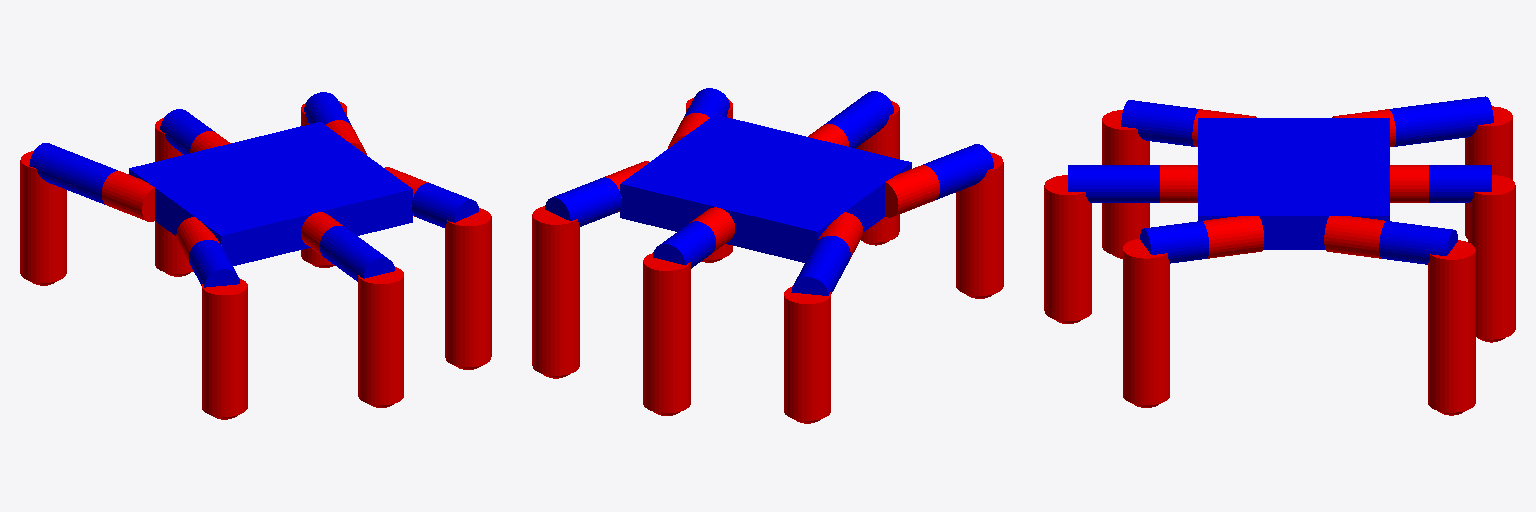
--- Render facts (derived) ---
3 views of the same robot in one strip: view 1: azimuth 30°, elevation 25°; view 2: azimuth 150°, elevation 25°; view 3: azimuth 270°, elevation 25° (orthographic).
Model pexod with 19 links and 18 joints (18 revolute), rooted at base_link, posed every joint at zero.
Visible links, largest first — view 1: base_link, leg_3_3, leg_5_3, leg_4_3, leg_0_3, leg_0_2, leg_4_2, leg_3_2, leg_0_1, leg_1_3, leg_5_2, leg_1_2 (+4 smaller); view 2: base_link, leg_2_3, leg_1_3, leg_0_3, leg_5_3, leg_2_2, leg_0_2, leg_5_2, leg_4_2, leg_5_1, leg_4_3, leg_1_2 (+5 smaller); view 3: base_link, leg_2_3, leg_3_3, leg_1_3, leg_4_3, leg_5_3, leg_0_2, leg_4_2, leg_2_2, leg_5_2, leg_0_3, leg_3_2 (+5 smaller).
Boxes of the visible links, box(x1,y1,x2,y2) form: base_link: box(129, 122, 412, 265); leg_3_3: box(445, 208, 491, 369); leg_5_3: box(202, 278, 247, 419); leg_4_3: box(358, 267, 403, 407); leg_0_3: box(20, 151, 66, 285); leg_0_2: box(29, 143, 117, 204); leg_4_2: box(319, 226, 394, 281); leg_3_2: box(412, 183, 478, 227); leg_0_1: box(102, 171, 154, 221); leg_1_3: box(155, 118, 193, 276); leg_5_2: box(189, 240, 239, 287); leg_1_2: box(160, 109, 214, 154); base_link: box(620, 114, 911, 262); leg_2_3: box(532, 206, 579, 378); leg_1_3: box(643, 253, 690, 415); leg_0_3: box(784, 286, 830, 423); leg_5_3: box(956, 152, 1003, 298); leg_2_2: box(545, 177, 621, 226); leg_0_2: box(791, 236, 850, 295); leg_5_2: box(923, 144, 993, 199); leg_4_2: box(824, 91, 893, 148); leg_5_1: box(885, 165, 939, 217); leg_4_3: box(856, 100, 899, 245); leg_1_2: box(653, 221, 715, 268); base_link: box(1198, 118, 1389, 249); leg_2_3: box(1428, 240, 1475, 415); leg_3_3: box(1123, 239, 1169, 407); leg_1_3: box(1468, 175, 1515, 342); leg_4_3: box(1044, 175, 1091, 323); leg_5_3: box(1102, 110, 1149, 258); leg_0_2: box(1389, 96, 1493, 146); leg_4_2: box(1068, 165, 1159, 202); leg_2_2: box(1379, 221, 1457, 264); leg_5_2: box(1121, 100, 1198, 146); leg_0_3: box(1465, 106, 1512, 238); leg_3_2: box(1140, 221, 1208, 263).
Bounding box of the posed robot: 0.3784 × 0.4905 × 0.2081 m (x, y, z).
Geometry: primitives only (box / cylinder / sphere), no mesh files.

The robot description file, URDF, robot "pexod":
<?xml version="1.0" ?>
<!-- =================================================================================== -->
<!-- |    This document was autogenerated by xacro from pexod.xacro                    | -->
<!-- |    EDITING THIS FILE BY HAND IS NOT RECOMMENDED                                 | -->
<!-- =================================================================================== -->
<robot name="pexod" xmlns:xacro="http://www.ros.org/wiki/xacro">
  <!-- <xacro:include filename="$(find pexod_description)/urdf/pexod_control.xacro" /> -->
  <!-- MATERIALS -->
  <material name="Blue">
    <color rgba="0 0 1 1"/>
  </material>
  <material name="Red">
    <color rgba="1 0 0 1"/>
  </material>
  <material name="Green">
    <color rgba="0 1 0 1"/>
  </material>
  <material name="Yellow">
    <color rgba="1 1 0 1"/>
  </material>
  <material name="LightGrey">
    <color rgba="0.6 0.6 0.6 1.0"/>
  </material>
  <!-- END OF MATERIALS -->
  <!-- XACRO MACROS FOR VISUALS AND COLLISIONS -->
  <!-- END OF XACRO MACROS -->
  <!-- TORSO -->
  <link name="base_link">
    <visual>
      <origin rpy="0 0 0" xyz="0 0 0"/>
      <geometry>
        <box size="0.24 0.2 0.04"/>
      </geometry>
      <material name="Blue"/>
    </visual>
    <collision>
      <origin rpy="0 0 0" xyz="0 0 0"/>
      <geometry>
        <box size="0.24 0.2 0.04"/>
      </geometry>
    </collision>
    <inertial>
      <!-- CENTER OF MASS -->
      <origin rpy="0 0 0" xyz="0 0 0"/>
      <mass value="1.031"/>
      <!-- box inertia: 1/12*m(y^2+z^2), ... -->
      <inertia ixx="0.00357413333333" ixy="0" ixz="0" iyy="0.00508626666667" iyz="0" izz="0.00838546666667"/>
    </inertial>
  </link>
  <!-- XACRO MACRO FOR LEGS LINKS/JOINTS -->
  <!-- END OF LEG LINKS/JOINTS -->
  <joint name="body_leg_2" type="revolute">
    <parent link="base_link"/>
    <child link="leg_2_1"/>
    <limit effort="30.0" lower="-1.57079632679" upper="1.57079632679" velocity="7.0"/>
    <origin rpy="0 0 -0.3" xyz="0.11 0.04 0"/>
    <!-- <xacro:if value="${index == 5 or index == 4 or index == 3}">
                <axis xyz="0 0 1"/>
            </xacro:if>
            <xacro:if value="${index == 2 or index == 1 or index == 0}"> -->
    <axis xyz="0 0 1"/>
    <!-- </xacro:if> -->
    <dynamics damping="0.0"/>
  </joint>
  <link name="leg_2_1">
    <visual>
      <origin rpy="1.57079632679 0 0" xyz="0.01 0.03 0"/>
      <geometry>
        <cylinder length="0.06" radius="0.02"/>
      </geometry>
      <material name="Red"/>
    </visual>
    <collision>
      <origin rpy="1.57079632679 0 0" xyz="0.01 0.03 0"/>
      <geometry>
        <box size="0.02 0.02 0.06"/>
      </geometry>
    </collision>
    <inertial>
      <!-- CENTER OF MASS -->
      <origin rpy="1.57079632679 0 0" xyz="0.01 0.03 0"/>
      <mass value="0.02"/>
      <!-- box inertia: 1/12*m(y^2+z^2), ... -->
      <inertia ixx="6.66666666667e-06" ixy="0" ixz="0" iyy="6.66666666667e-06" iyz="0" izz="1.33333333333e-06"/>
    </inertial>
  </link>
  <joint name="leg_2_1_2" type="revolute">
    <parent link="leg_2_1"/>
    <child link="leg_2_2"/>
    <limit effort="30.0" lower="-0.78539816339" upper="0.78539816339" velocity="7.0"/>
    <origin rpy="0 0 0" xyz="0 0.06 0"/>
    <axis xyz="1 0 0"/>
    <dynamics damping="0.0"/>
  </joint>
  <link name="leg_2_2">
    <visual>
      <origin rpy="1.57079632679 0 0" xyz="0.01 0.0367236384645 0"/>
      <geometry>
        <cylinder length="0.0734472769291" radius="0.02"/>
      </geometry>
      <material name="Blue"/>
    </visual>
    <collision>
      <origin rpy="1.57079632679 0 0" xyz="0.01 0.0367236384645 0"/>
      <geometry>
        <box size="0.02 0.02 0.0734472769291"/>
      </geometry>
    </collision>
    <inertial>
      <!-- CENTER OF MASS -->
      <origin rpy="1.57079632679 0 0" xyz="0.01 0.0367236384645 0"/>
      <mass value="0.184"/>
      <!-- box inertia: 1/12*m(y^2+z^2), ... -->
      <inertia ixx="8.88490381539e-05" ixy="0" ixz="0" iyy="8.88490381539e-05" iyz="0" izz="1.22666666667e-05"/>
    </inertial>
  </link>
  <joint name="leg_2_2_3" type="revolute">
    <parent link="leg_2_2"/>
    <child link="leg_2_3"/>
    <limit effort="30.0" lower="-0.78539816339" upper="0.78539816339" velocity="7.0"/>
    <origin rpy="-1.57079632679 0 0" xyz="0 0.0734472769291 0"/>
    <axis xyz="-1 0 0"/>
    <dynamics damping="0.0"/>
  </joint>
  <link name="leg_2_3">
    <visual>
      <origin rpy="1.57079632679 0 0" xyz="0.0125 0.087816084555 0"/>
      <geometry>
        <cylinder length="0.17563216911" radius="0.025"/>
      </geometry>
      <material name="Red"/>
    </visual>
    <visual>
      <origin rpy="1.57079632679 0 0" xyz="0.0125 0.16313216911 0"/>
      <geometry>
        <sphere radius="0.025"/>
      </geometry>
      <material name="Red"/>
    </visual>
    <collision>
      <origin rpy="1.57079632679 0 0" xyz="0.0125 0.087816084555 0"/>
      <geometry>
        <box size="0.025 0.025 0.17563216911"/>
      </geometry>
    </collision>
    <collision>
      <origin rpy="1.57079632679 0 0" xyz="0.0125 0.16313216911 0"/>
      <geometry>
        <sphere radius="0.025"/>
      </geometry>
      <material name="Red"/>
    </collision>
    <inertial>
      <!-- CENTER OF MASS -->
      <origin rpy="1.57079632679 0 0" xyz="0.0125 0.087816084555 0"/>
      <mass value="0.04"/>
      <!-- box inertia: 1/12*m(y^2+z^2), ... -->
      <inertia ixx="0.000104905529421" ixy="0" ixz="0" iyy="0.000104905529421" iyz="0" izz="4.16666666667e-06"/>
    </inertial>
  </link>
  <joint name="body_leg_3" type="revolute">
    <parent link="base_link"/>
    <child link="leg_3_1"/>
    <limit effort="30.0" lower="-1.57079632679" upper="1.57079632679" velocity="7.0"/>
    <origin rpy="0 0 0.3" xyz="0.11 -0.04 0"/>
    <!-- <xacro:if value="${index == 5 or index == 4 or index == 3}">
                <axis xyz="0 0 1"/>
            </xacro:if>
            <xacro:if value="${index == 2 or index == 1 or index == 0}"> -->
    <axis xyz="0 0 1"/>
    <!-- </xacro:if> -->
    <dynamics damping="0.0"/>
  </joint>
  <link name="leg_3_1">
    <visual>
      <origin rpy="1.57079632679 0 0" xyz="0.01 -0.03 0"/>
      <geometry>
        <cylinder length="0.06" radius="0.02"/>
      </geometry>
      <material name="Red"/>
    </visual>
    <collision>
      <origin rpy="1.57079632679 0 0" xyz="0.01 -0.03 0"/>
      <geometry>
        <box size="0.02 0.02 0.06"/>
      </geometry>
    </collision>
    <inertial>
      <!-- CENTER OF MASS -->
      <origin rpy="1.57079632679 0 0" xyz="0.01 -0.03 0"/>
      <mass value="0.02"/>
      <!-- box inertia: 1/12*m(y^2+z^2), ... -->
      <inertia ixx="6.66666666667e-06" ixy="0" ixz="0" iyy="6.66666666667e-06" iyz="0" izz="1.33333333333e-06"/>
    </inertial>
  </link>
  <joint name="leg_3_1_2" type="revolute">
    <parent link="leg_3_1"/>
    <child link="leg_3_2"/>
    <limit effort="30.0" lower="-0.78539816339" upper="0.78539816339" velocity="7.0"/>
    <origin rpy="0 0 0" xyz="0 -0.06 0"/>
    <axis xyz="-1 0 0"/>
    <dynamics damping="0.0"/>
  </joint>
  <link name="leg_3_2">
    <visual>
      <origin rpy="1.57079632679 0 0" xyz="0.01 -0.0315612735313 0"/>
      <geometry>
        <cylinder length="0.0631225470627" radius="0.02"/>
      </geometry>
      <material name="Blue"/>
    </visual>
    <collision>
      <origin rpy="1.57079632679 0 0" xyz="0.01 -0.0315612735313 0"/>
      <geometry>
        <box size="0.02 0.02 0.0631225470627"/>
      </geometry>
    </collision>
    <inertial>
      <!-- CENTER OF MASS -->
      <origin rpy="1.57079632679 0 0" xyz="0.01 -0.0315612735313 0"/>
      <mass value="0.184"/>
      <!-- box inertia: 1/12*m(y^2+z^2), ... -->
      <inertia ixx="6.72283245311e-05" ixy="0" ixz="0" iyy="6.72283245311e-05" iyz="0" izz="1.22666666667e-05"/>
    </inertial>
  </link>
  <joint name="leg_3_2_3" type="revolute">
    <parent link="leg_3_2"/>
    <child link="leg_3_3"/>
    <limit effort="30.0" lower="-0.78539816339" upper="0.78539816339" velocity="7.0"/>
    <origin rpy="1.57079632679 0 0" xyz="0 -0.0631225470627 0"/>
    <axis xyz="1 0 0"/>
    <dynamics damping="0.0"/>
  </joint>
  <link name="leg_3_3">
    <visual>
      <origin rpy="1.57079632679 0 0" xyz="0.0125 -0.084298996105 0"/>
      <geometry>
        <cylinder length="0.16859799221" radius="0.025"/>
      </geometry>
      <material name="Red"/>
    </visual>
    <visual>
      <origin rpy="1.57079632679 0 0" xyz="0.0125 -0.15609799221 0"/>
      <geometry>
        <sphere radius="0.025"/>
      </geometry>
      <material name="Red"/>
    </visual>
    <collision>
      <origin rpy="1.57079632679 0 0" xyz="0.0125 -0.084298996105 0"/>
      <geometry>
        <box size="0.025 0.025 0.16859799221"/>
      </geometry>
    </collision>
    <collision>
      <origin rpy="1.57079632679 0 0" xyz="0.0125 -0.15609799221 0"/>
      <geometry>
        <sphere radius="0.025"/>
      </geometry>
      <material name="Red"/>
    </collision>
    <inertial>
      <!-- CENTER OF MASS -->
      <origin rpy="1.57079632679 0 0" xyz="0.0125 -0.084298996105 0"/>
      <mass value="0.04"/>
      <!-- box inertia: 1/12*m(y^2+z^2), ... -->
      <inertia ixx="9.68342765908e-05" ixy="0" ixz="0" iyy="9.68342765908e-05" iyz="0" izz="4.16666666667e-06"/>
    </inertial>
  </link>
  <joint name="body_leg_0" type="revolute">
    <parent link="base_link"/>
    <child link="leg_0_1"/>
    <limit effort="30.0" lower="-1.57079632679" upper="1.57079632679" velocity="7.0"/>
    <origin rpy="0 0 0.3" xyz="-0.13 0.04 0"/>
    <!-- <xacro:if value="${index == 5 or index == 4 or index == 3}">
                <axis xyz="0 0 1"/>
            </xacro:if>
            <xacro:if value="${index == 2 or index == 1 or index == 0}"> -->
    <axis xyz="0 0 1"/>
    <!-- </xacro:if> -->
    <dynamics damping="0.0"/>
  </joint>
  <link name="leg_0_1">
    <visual>
      <origin rpy="1.57079632679 0 0" xyz="0.01 0.03 0"/>
      <geometry>
        <cylinder length="0.06" radius="0.02"/>
      </geometry>
      <material name="Red"/>
    </visual>
    <collision>
      <origin rpy="1.57079632679 0 0" xyz="0.01 0.03 0"/>
      <geometry>
        <box size="0.02 0.02 0.06"/>
      </geometry>
    </collision>
    <inertial>
      <!-- CENTER OF MASS -->
      <origin rpy="1.57079632679 0 0" xyz="0.01 0.03 0"/>
      <mass value="0.02"/>
      <!-- box inertia: 1/12*m(y^2+z^2), ... -->
      <inertia ixx="6.66666666667e-06" ixy="0" ixz="0" iyy="6.66666666667e-06" iyz="0" izz="1.33333333333e-06"/>
    </inertial>
  </link>
  <joint name="leg_0_1_2" type="revolute">
    <parent link="leg_0_1"/>
    <child link="leg_0_2"/>
    <limit effort="30.0" lower="-0.78539816339" upper="0.78539816339" velocity="7.0"/>
    <origin rpy="0 0 0" xyz="0 0.06 0"/>
    <axis xyz="1 0 0"/>
    <dynamics damping="0.0"/>
  </joint>
  <link name="leg_0_2">
    <visual>
      <origin rpy="1.57079632679 0 0" xyz="0.01 0.053204043968 0"/>
      <geometry>
        <cylinder length="0.106408087936" radius="0.02"/>
      </geometry>
      <material name="Blue"/>
    </visual>
    <collision>
      <origin rpy="1.57079632679 0 0" xyz="0.01 0.053204043968 0"/>
      <geometry>
        <box size="0.02 0.02 0.106408087936"/>
      </geometry>
    </collision>
    <inertial>
      <!-- CENTER OF MASS -->
      <origin rpy="1.57079632679 0 0" xyz="0.01 0.053204043968 0"/>
      <mass value="0.184"/>
      <!-- box inertia: 1/12*m(y^2+z^2), ... -->
      <inertia ixx="0.000179747778066" ixy="0" ixz="0" iyy="0.000179747778066" iyz="0" izz="1.22666666667e-05"/>
    </inertial>
  </link>
  <joint name="leg_0_2_3" type="revolute">
    <parent link="leg_0_2"/>
    <child link="leg_0_3"/>
    <limit effort="30.0" lower="-0.78539816339" upper="0.78539816339" velocity="7.0"/>
    <origin rpy="-1.57079632679 0 0" xyz="0 0.106408087936 0"/>
    <axis xyz="-1 0 0"/>
    <dynamics damping="0.0"/>
  </joint>
  <link name="leg_0_3">
    <visual>
      <origin rpy="1.57079632679 0 0" xyz="0.0125 0.067930337687 0"/>
      <geometry>
        <cylinder length="0.135860675374" radius="0.025"/>
      </geometry>
      <material name="Red"/>
    </visual>
    <visual>
      <origin rpy="1.57079632679 0 0" xyz="0.0125 0.123360675374 0"/>
      <geometry>
        <sphere radius="0.025"/>
      </geometry>
      <material name="Red"/>
    </visual>
    <collision>
      <origin rpy="1.57079632679 0 0" xyz="0.0125 0.067930337687 0"/>
      <geometry>
        <box size="0.025 0.025 0.135860675374"/>
      </geometry>
    </collision>
    <collision>
      <origin rpy="1.57079632679 0 0" xyz="0.0125 0.123360675374 0"/>
      <geometry>
        <sphere radius="0.025"/>
      </geometry>
      <material name="Red"/>
    </collision>
    <inertial>
      <!-- CENTER OF MASS -->
      <origin rpy="1.57079632679 0 0" xyz="0.0125 0.067930337687 0"/>
      <mass value="0.04"/>
      <!-- box inertia: 1/12*m(y^2+z^2), ... -->
      <inertia ixx="6.36104103769e-05" ixy="0" ixz="0" iyy="6.36104103769e-05" iyz="0" izz="4.16666666667e-06"/>
    </inertial>
  </link>
  <joint name="body_leg_5" type="revolute">
    <parent link="base_link"/>
    <child link="leg_5_1"/>
    <limit effort="30.0" lower="-1.57079632679" upper="1.57079632679" velocity="7.0"/>
    <origin rpy="0 0 -0.3" xyz="-0.13 -0.04 0"/>
    <!-- <xacro:if value="${index == 5 or index == 4 or index == 3}">
                <axis xyz="0 0 1"/>
            </xacro:if>
            <xacro:if value="${index == 2 or index == 1 or index == 0}"> -->
    <axis xyz="0 0 1"/>
    <!-- </xacro:if> -->
    <dynamics damping="0.0"/>
  </joint>
  <link name="leg_5_1">
    <visual>
      <origin rpy="1.57079632679 0 0" xyz="0.01 -0.03 0"/>
      <geometry>
        <cylinder length="0.06" radius="0.02"/>
      </geometry>
      <material name="Red"/>
    </visual>
    <collision>
      <origin rpy="1.57079632679 0 0" xyz="0.01 -0.03 0"/>
      <geometry>
        <box size="0.02 0.02 0.06"/>
      </geometry>
    </collision>
    <inertial>
      <!-- CENTER OF MASS -->
      <origin rpy="1.57079632679 0 0" xyz="0.01 -0.03 0"/>
      <mass value="0.02"/>
      <!-- box inertia: 1/12*m(y^2+z^2), ... -->
      <inertia ixx="6.66666666667e-06" ixy="0" ixz="0" iyy="6.66666666667e-06" iyz="0" izz="1.33333333333e-06"/>
    </inertial>
  </link>
  <joint name="leg_5_1_2" type="revolute">
    <parent link="leg_5_1"/>
    <child link="leg_5_2"/>
    <limit effort="30.0" lower="-0.78539816339" upper="0.78539816339" velocity="7.0"/>
    <origin rpy="0 0 0" xyz="0 -0.06 0"/>
    <axis xyz="-1 0 0"/>
    <dynamics damping="0.0"/>
  </joint>
  <link name="leg_5_2">
    <visual>
      <origin rpy="1.57079632679 0 0" xyz="0.01 -0.0388343426219 0"/>
      <geometry>
        <cylinder length="0.0776686852438" radius="0.02"/>
      </geometry>
      <material name="Blue"/>
    </visual>
    <collision>
      <origin rpy="1.57079632679 0 0" xyz="0.01 -0.0388343426219 0"/>
      <geometry>
        <box size="0.02 0.02 0.0776686852438"/>
      </geometry>
    </collision>
    <inertial>
      <!-- CENTER OF MASS -->
      <origin rpy="1.57079632679 0 0" xyz="0.01 -0.0388343426219 0"/>
      <mass value="0.184"/>
      <!-- box inertia: 1/12*m(y^2+z^2), ... -->
      <inertia ixx="9.86305115683e-05" ixy="0" ixz="0" iyy="9.86305115683e-05" iyz="0" izz="1.22666666667e-05"/>
    </inertial>
  </link>
  <joint name="leg_5_2_3" type="revolute">
    <parent link="leg_5_2"/>
    <child link="leg_5_3"/>
    <limit effort="30.0" lower="-0.78539816339" upper="0.78539816339" velocity="7.0"/>
    <origin rpy="1.57079632679 0 0" xyz="0 -0.0776686852438 0"/>
    <axis xyz="1 0 0"/>
    <dynamics damping="0.0"/>
  </joint>
  <link name="leg_5_3">
    <visual>
      <origin rpy="1.57079632679 0 0" xyz="0.0125 -0.072645212573 0"/>
      <geometry>
        <cylinder length="0.145290425146" radius="0.025"/>
      </geometry>
      <material name="Red"/>
    </visual>
    <visual>
      <origin rpy="1.57079632679 0 0" xyz="0.0125 -0.132790425146 0"/>
      <geometry>
        <sphere radius="0.025"/>
      </geometry>
      <material name="Red"/>
    </visual>
    <collision>
      <origin rpy="1.57079632679 0 0" xyz="0.0125 -0.072645212573 0"/>
      <geometry>
        <box size="0.025 0.025 0.145290425146"/>
      </geometry>
    </collision>
    <collision>
      <origin rpy="1.57079632679 0 0" xyz="0.0125 -0.132790425146 0"/>
      <geometry>
        <sphere radius="0.025"/>
      </geometry>
      <material name="Red"/>
    </collision>
    <inertial>
      <!-- CENTER OF MASS -->
      <origin rpy="1.57079632679 0 0" xyz="0.0125 -0.072645212573 0"/>
      <mass value="0.04"/>
      <!-- box inertia: 1/12*m(y^2+z^2), ... -->
      <inertia ixx="7.24476921304e-05" ixy="0" ixz="0" iyy="7.24476921304e-05" iyz="0" izz="4.16666666667e-06"/>
    </inertial>
  </link>
  <joint name="body_leg_1" type="revolute">
    <parent link="base_link"/>
    <child link="leg_1_1"/>
    <limit effort="30.0" lower="-1.57079632679" upper="1.57079632679" velocity="7.0"/>
    <origin rpy="0 0 0" xyz="-0.01 0.08 0"/>
    <!-- <xacro:if value="${index == 5 or index == 4 or index == 3}">
                <axis xyz="0 0 1"/>
            </xacro:if>
            <xacro:if value="${index == 2 or index == 1 or index == 0}"> -->
    <axis xyz="0 0 1"/>
    <!-- </xacro:if> -->
    <dynamics damping="0.0"/>
  </joint>
  <link name="leg_1_1">
    <visual>
      <origin rpy="1.57079632679 0 0" xyz="0.01 0.03 0"/>
      <geometry>
        <cylinder length="0.06" radius="0.02"/>
      </geometry>
      <material name="Red"/>
    </visual>
    <collision>
      <origin rpy="1.57079632679 0 0" xyz="0.01 0.03 0"/>
      <geometry>
        <box size="0.02 0.02 0.06"/>
      </geometry>
    </collision>
    <inertial>
      <!-- CENTER OF MASS -->
      <origin rpy="1.57079632679 0 0" xyz="0.01 0.03 0"/>
      <mass value="0.02"/>
      <!-- box inertia: 1/12*m(y^2+z^2), ... -->
      <inertia ixx="6.66666666667e-06" ixy="0" ixz="0" iyy="6.66666666667e-06" iyz="0" izz="1.33333333333e-06"/>
    </inertial>
  </link>
  <joint name="leg_1_1_2" type="revolute">
    <parent link="leg_1_1"/>
    <child link="leg_1_2"/>
    <limit effort="30.0" lower="-0.78539816339" upper="0.78539816339" velocity="7.0"/>
    <origin rpy="0 0 0" xyz="0 0.06 0"/>
    <axis xyz="1 0 0"/>
    <dynamics damping="0.0"/>
  </joint>
  <link name="leg_1_2">
    <visual>
      <origin rpy="1.57079632679 0 0" xyz="0.01 0.0326496567914 0"/>
      <geometry>
        <cylinder length="0.0652993135828" radius="0.02"/>
      </geometry>
      <material name="Blue"/>
    </visual>
    <collision>
      <origin rpy="1.57079632679 0 0" xyz="0.01 0.0326496567914 0"/>
      <geometry>
        <box size="0.02 0.02 0.0652993135828"/>
      </geometry>
    </collision>
    <inertial>
      <!-- CENTER OF MASS -->
      <origin rpy="1.57079632679 0 0" xyz="0.01 0.0326496567914 0"/>
      <mass value="0.184"/>
      <!-- box inertia: 1/12*m(y^2+z^2), ... -->
      <inertia ixx="7.15146721006e-05" ixy="0" ixz="0" iyy="7.15146721006e-05" iyz="0" izz="1.22666666667e-05"/>
    </inertial>
  </link>
  <joint name="leg_1_2_3" type="revolute">
    <parent link="leg_1_2"/>
    <child link="leg_1_3"/>
    <limit effort="30.0" lower="-0.78539816339" upper="0.78539816339" velocity="7.0"/>
    <origin rpy="-1.57079632679 0 0" xyz="0 0.0652993135828 0"/>
    <axis xyz="-1 0 0"/>
    <dynamics damping="0.0"/>
  </joint>
  <link name="leg_1_3">
    <visual>
      <origin rpy="1.57079632679 0 0" xyz="0.0125 0.082847229227 0"/>
      <geometry>
        <cylinder length="0.165694458454" radius="0.025"/>
      </geometry>
      <material name="Red"/>
    </visual>
    <visual>
      <origin rpy="1.57079632679 0 0" xyz="0.0125 0.153194458454 0"/>
      <geometry>
        <sphere radius="0.025"/>
      </geometry>
      <material name="Red"/>
    </visual>
    <collision>
      <origin rpy="1.57079632679 0 0" xyz="0.0125 0.082847229227 0"/>
      <geometry>
        <box size="0.025 0.025 0.165694458454"/>
      </geometry>
    </collision>
    <collision>
      <origin rpy="1.57079632679 0 0" xyz="0.0125 0.153194458454 0"/>
      <geometry>
        <sphere radius="0.025"/>
      </geometry>
      <material name="Red"/>
    </collision>
    <inertial>
      <!-- CENTER OF MASS -->
      <origin rpy="1.57079632679 0 0" xyz="0.0125 0.082847229227 0"/>
      <mass value="0.04"/>
      <!-- box inertia: 1/12*m(y^2+z^2), ... -->
      <inertia ixx="9.35988452079e-05" ixy="0" ixz="0" iyy="9.35988452079e-05" iyz="0" izz="4.16666666667e-06"/>
    </inertial>
  </link>
  <joint name="body_leg_4" type="revolute">
    <parent link="base_link"/>
    <child link="leg_4_1"/>
    <limit effort="30.0" lower="-1.57079632679" upper="1.57079632679" velocity="7.0"/>
    <origin rpy="0 0 0" xyz="-0.01 -0.08 0"/>
    <!-- <xacro:if value="${index == 5 or index == 4 or index == 3}">
                <axis xyz="0 0 1"/>
            </xacro:if>
            <xacro:if value="${index == 2 or index == 1 or index == 0}"> -->
    <axis xyz="0 0 1"/>
    <!-- </xacro:if> -->
    <dynamics damping="0.0"/>
  </joint>
  <link name="leg_4_1">
    <visual>
      <origin rpy="1.57079632679 0 0" xyz="0.01 -0.03 0"/>
      <geometry>
        <cylinder length="0.06" radius="0.02"/>
      </geometry>
      <material name="Red"/>
    </visual>
    <collision>
      <origin rpy="1.57079632679 0 0" xyz="0.01 -0.03 0"/>
      <geometry>
        <box size="0.02 0.02 0.06"/>
      </geometry>
    </collision>
    <inertial>
      <!-- CENTER OF MASS -->
      <origin rpy="1.57079632679 0 0" xyz="0.01 -0.03 0"/>
      <mass value="0.02"/>
      <!-- box inertia: 1/12*m(y^2+z^2), ... -->
      <inertia ixx="6.66666666667e-06" ixy="0" ixz="0" iyy="6.66666666667e-06" iyz="0" izz="1.33333333333e-06"/>
    </inertial>
  </link>
  <joint name="leg_4_1_2" type="revolute">
    <parent link="leg_4_1"/>
    <child link="leg_4_2"/>
    <limit effort="30.0" lower="-0.78539816339" upper="0.78539816339" velocity="7.0"/>
    <origin rpy="0 0 0" xyz="0 -0.06 0"/>
    <axis xyz="-1 0 0"/>
    <dynamics damping="0.0"/>
  </joint>
  <link name="leg_4_2">
    <visual>
      <origin rpy="1.57079632679 0 0" xyz="0.01 -0.0475996631828 0"/>
      <geometry>
        <cylinder length="0.0951993263656" radius="0.02"/>
      </geometry>
      <material name="Blue"/>
    </visual>
    <collision>
      <origin rpy="1.57079632679 0 0" xyz="0.01 -0.0475996631828 0"/>
      <geometry>
        <box size="0.02 0.02 0.0951993263656"/>
      </geometry>
    </collision>
    <inertial>
      <!-- CENTER OF MASS -->
      <origin rpy="1.57079632679 0 0" xyz="0.01 -0.0475996631828 0"/>
      <mass value="0.184"/>
      <!-- box inertia: 1/12*m(y^2+z^2), ... -->
      <inertia ixx="0.00014509798002" ixy="0" ixz="0" iyy="0.00014509798002" iyz="0" izz="1.22666666667e-05"/>
    </inertial>
  </link>
  <joint name="leg_4_2_3" type="revolute">
    <parent link="leg_4_2"/>
    <child link="leg_4_3"/>
    <limit effort="30.0" lower="-0.78539816339" upper="0.78539816339" velocity="7.0"/>
    <origin rpy="1.57079632679 0 0" xyz="0 -0.0951993263656 0"/>
    <axis xyz="1 0 0"/>
    <dynamics damping="0.0"/>
  </joint>
  <link name="leg_4_3">
    <visual>
      <origin rpy="1.57079632679 0 0" xyz="0.0125 -0.07239765787 0"/>
      <geometry>
        <cylinder length="0.14479531574" radius="0.025"/>
      </geometry>
      <material name="Red"/>
    </visual>
    <visual>
      <origin rpy="1.57079632679 0 0" xyz="0.0125 -0.13229531574 0"/>
      <geometry>
        <sphere radius="0.025"/>
      </geometry>
      <material name="Red"/>
    </visual>
    <collision>
      <origin rpy="1.57079632679 0 0" xyz="0.0125 -0.07239765787 0"/>
      <geometry>
        <box size="0.025 0.025 0.14479531574"/>
      </geometry>
    </collision>
    <collision>
      <origin rpy="1.57079632679 0 0" xyz="0.0125 -0.13229531574 0"/>
      <geometry>
        <sphere radius="0.025"/>
      </geometry>
      <material name="Red"/>
    </collision>
    <inertial>
      <!-- CENTER OF MASS -->
      <origin rpy="1.57079632679 0 0" xyz="0.0125 -0.07239765787 0"/>
      <mass value="0.04"/>
      <!-- box inertia: 1/12*m(y^2+z^2), ... -->
      <inertia ixx="7.19689448675e-05" ixy="0" ixz="0" iyy="7.19689448675e-05" iyz="0" izz="4.16666666667e-06"/>
    </inertial>
  </link>
  <!-- END OF LEG LINKS/JOINTS -->
</robot>
